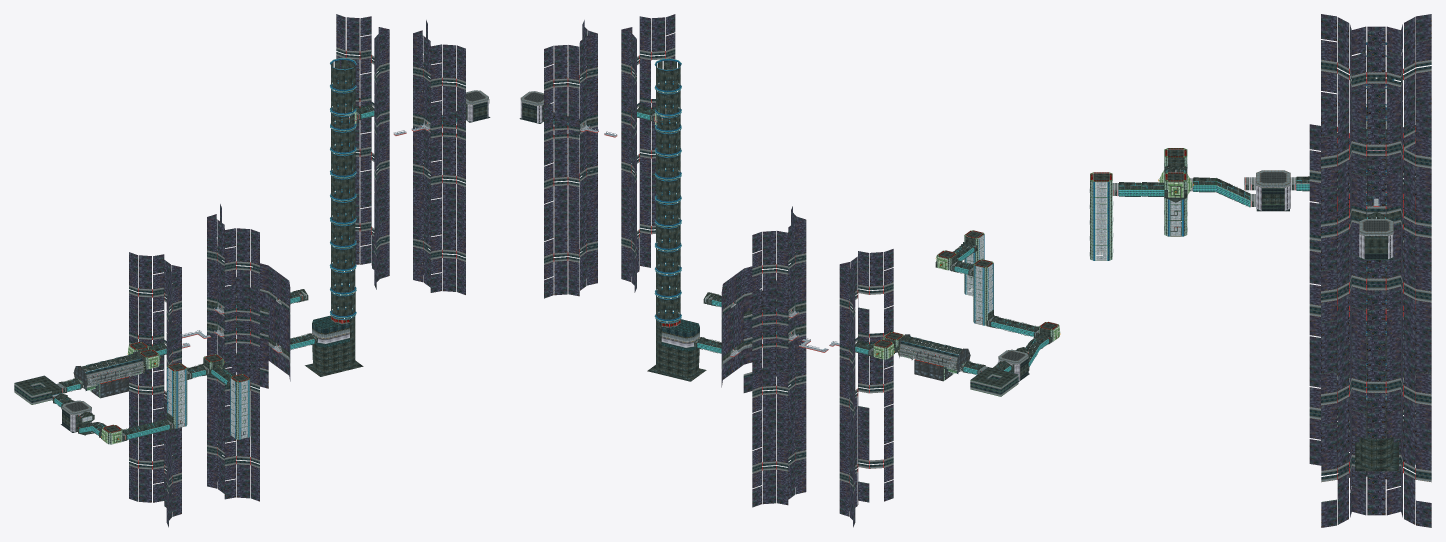
Rendered from LostColony.obj.
3 renders of one model, left to right at view 1: azimuth 30°, elevation 25°; view 2: azimuth 150°, elevation 25°; view 3: azimuth 270°, elevation 25°, orthographic. The views are drawn at different scales.
Size of the model in its own units: 6529 by 5700 by 2988.
36 materials, 36 textured.
